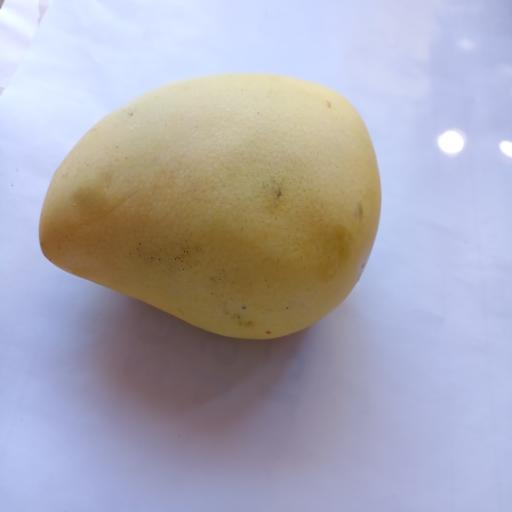mango-ripe: (19, 42, 409, 368)
